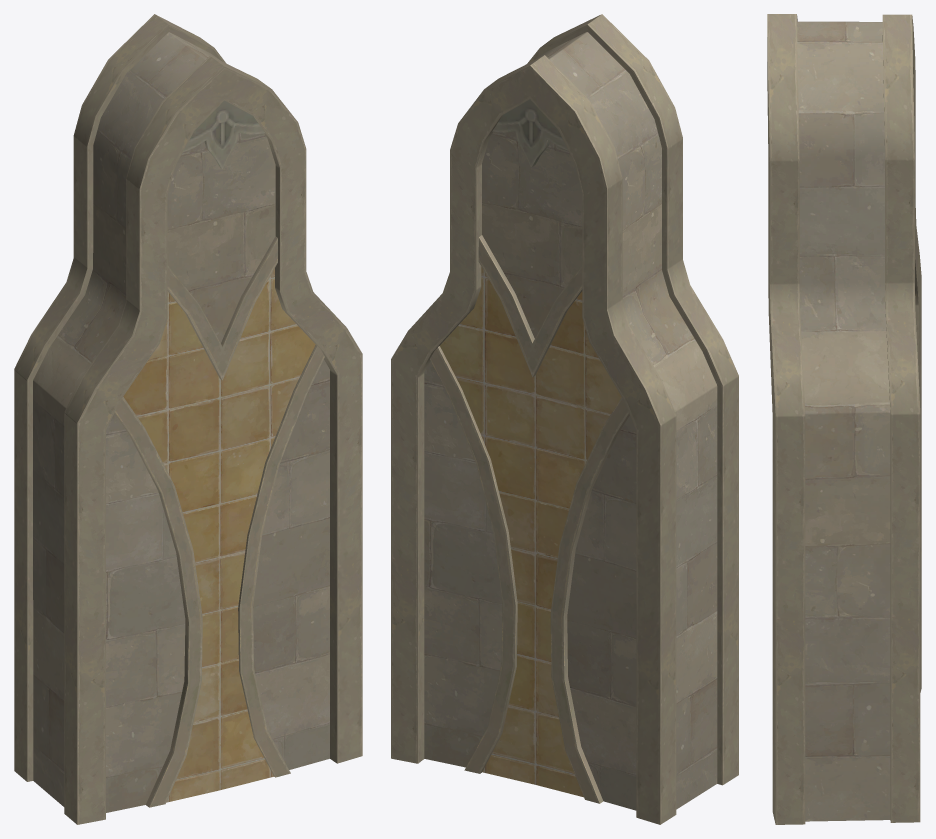
File: Homeworld_Exterior_Xm_Build_ArcWall_02_Lod0.fbx
3 renders of one model, left to right at view 1: azimuth 30°, elevation 25°; view 2: azimuth 150°, elevation 25°; view 3: azimuth 270°, elevation 25°, orthographic. The views are drawn at different scales.
Visible parts, largest first — view 1: Area_Xm_Build_XKC_Comp_Ybt_03_Lod0; view 2: Area_Xm_Build_XKC_Comp_Ybt_03_Lod0; view 3: Area_Xm_Build_XKC_Comp_Ybt_03_Lod0.
Part boxes in pixels (x1,y1,x2,y2): Area_Xm_Build_XKC_Comp_Ybt_03_Lod0: (14,14,362,824); Area_Xm_Build_XKC_Comp_Ybt_03_Lod0: (391,14,738,824); Area_Xm_Build_XKC_Comp_Ybt_03_Lod0: (767,14,921,824).
Size of the model in its own units: 3.62 by 8.83 by 1.67.
